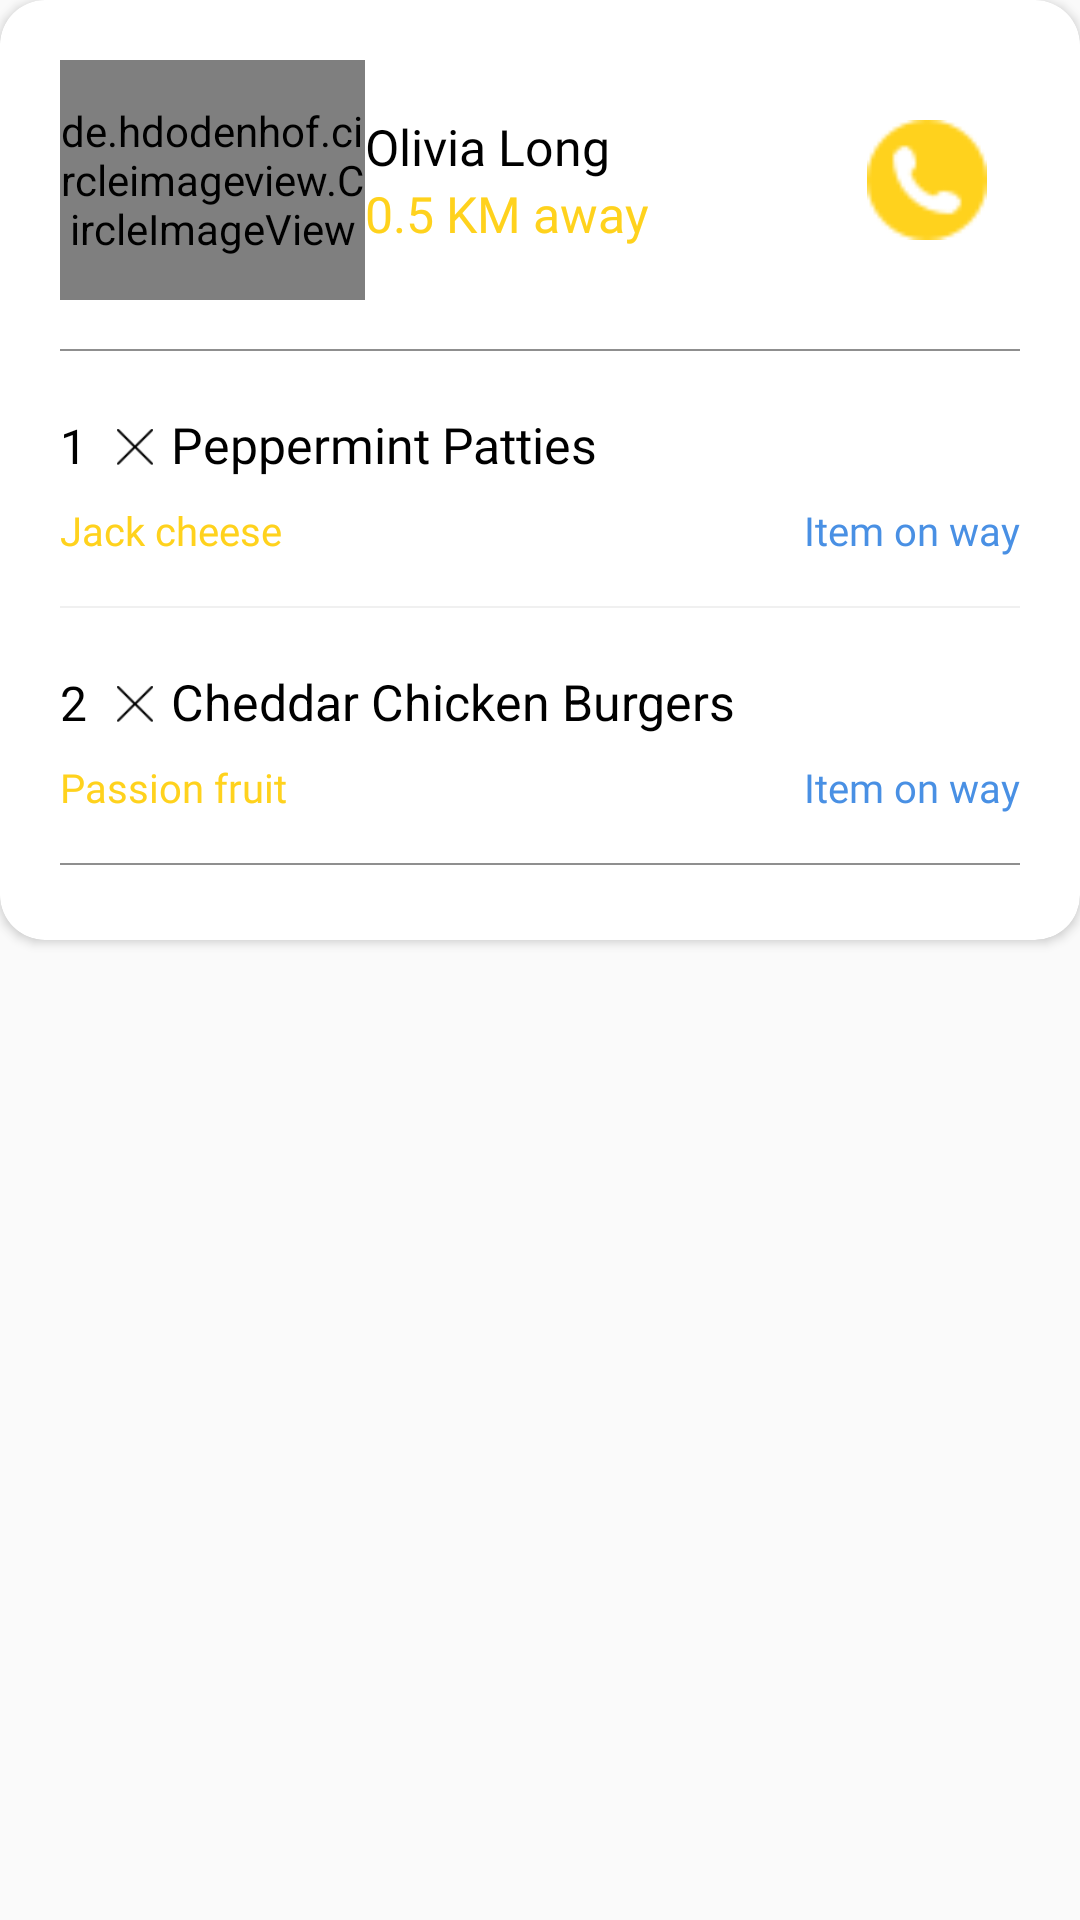

Screen size 1080px×1920px. Icon name, then its center in pixels as [x,y]:
phone: [927,180]
